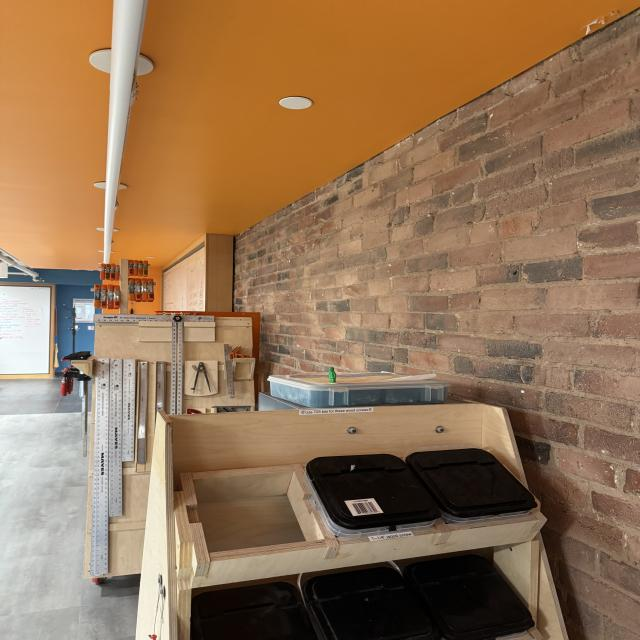Green Mini Figure: (328, 367, 336, 383)
